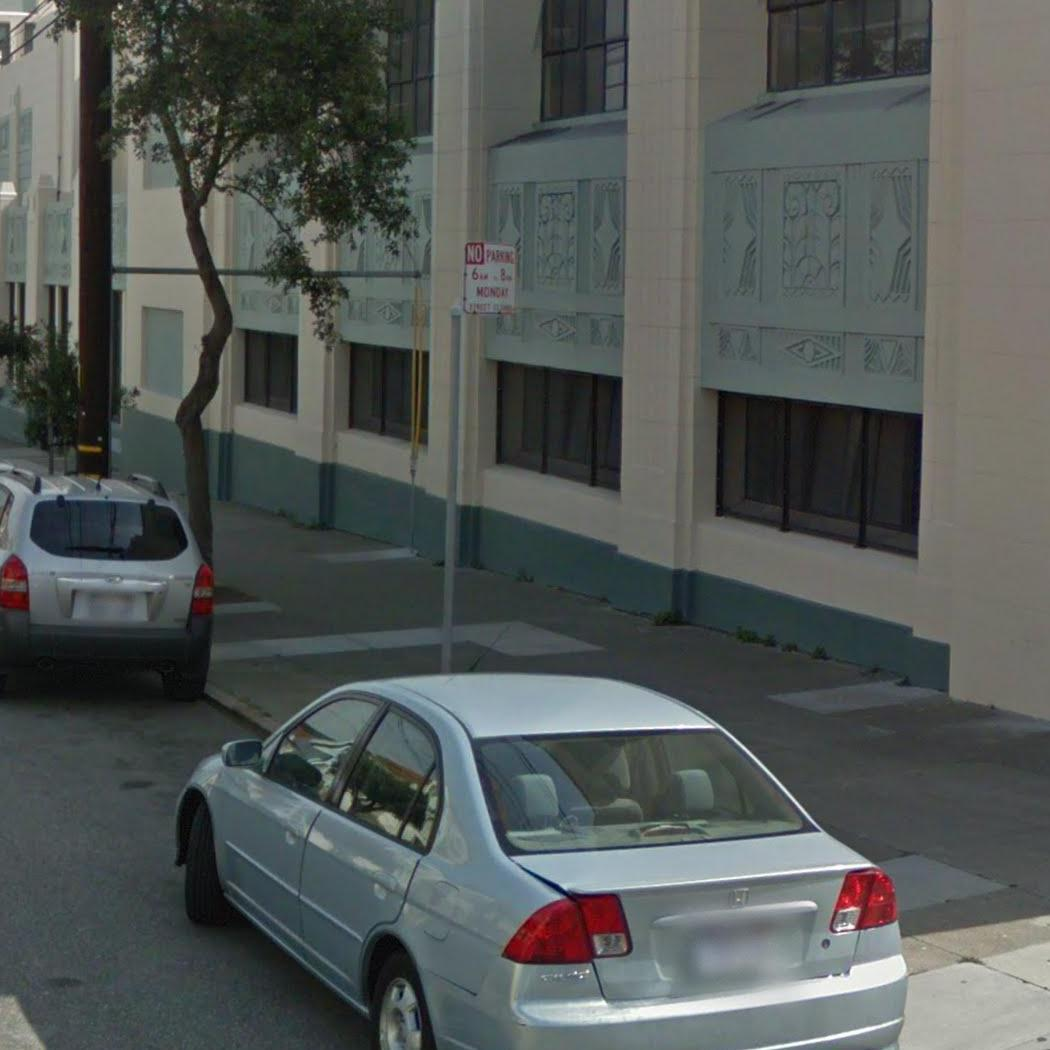No Parking: (460, 239, 522, 318)
